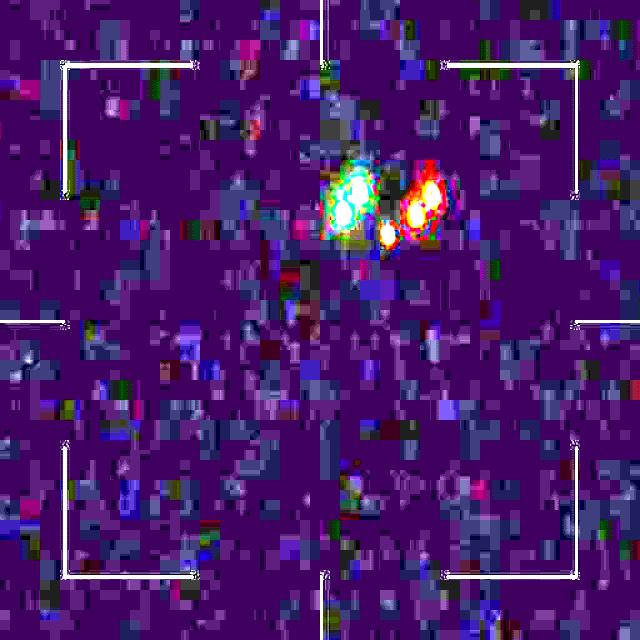bird: (331, 170, 441, 251)
